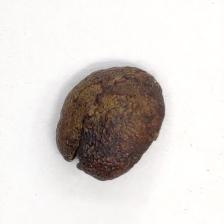NG: (56, 83, 137, 179)
